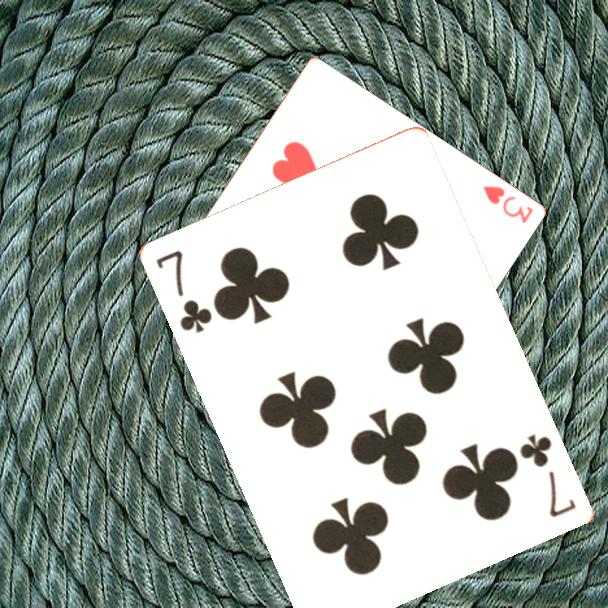c07: (516, 430, 580, 521), (153, 247, 216, 337)
h03: (479, 182, 536, 227)
